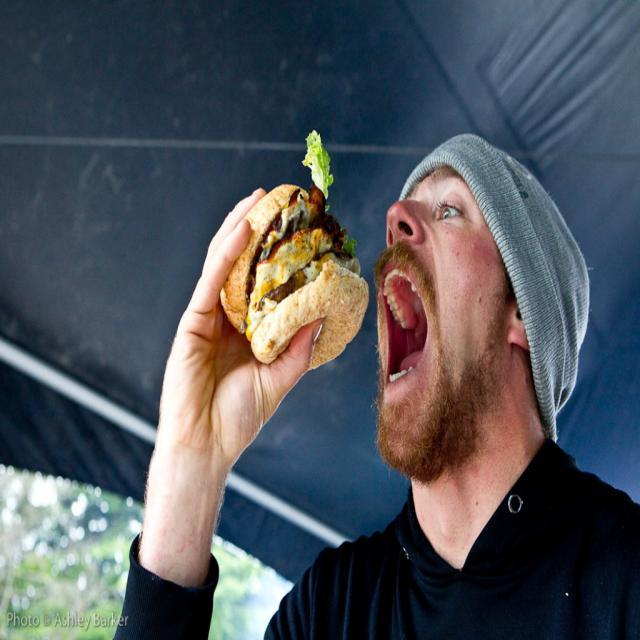Hamburger: (220, 129, 371, 370)
